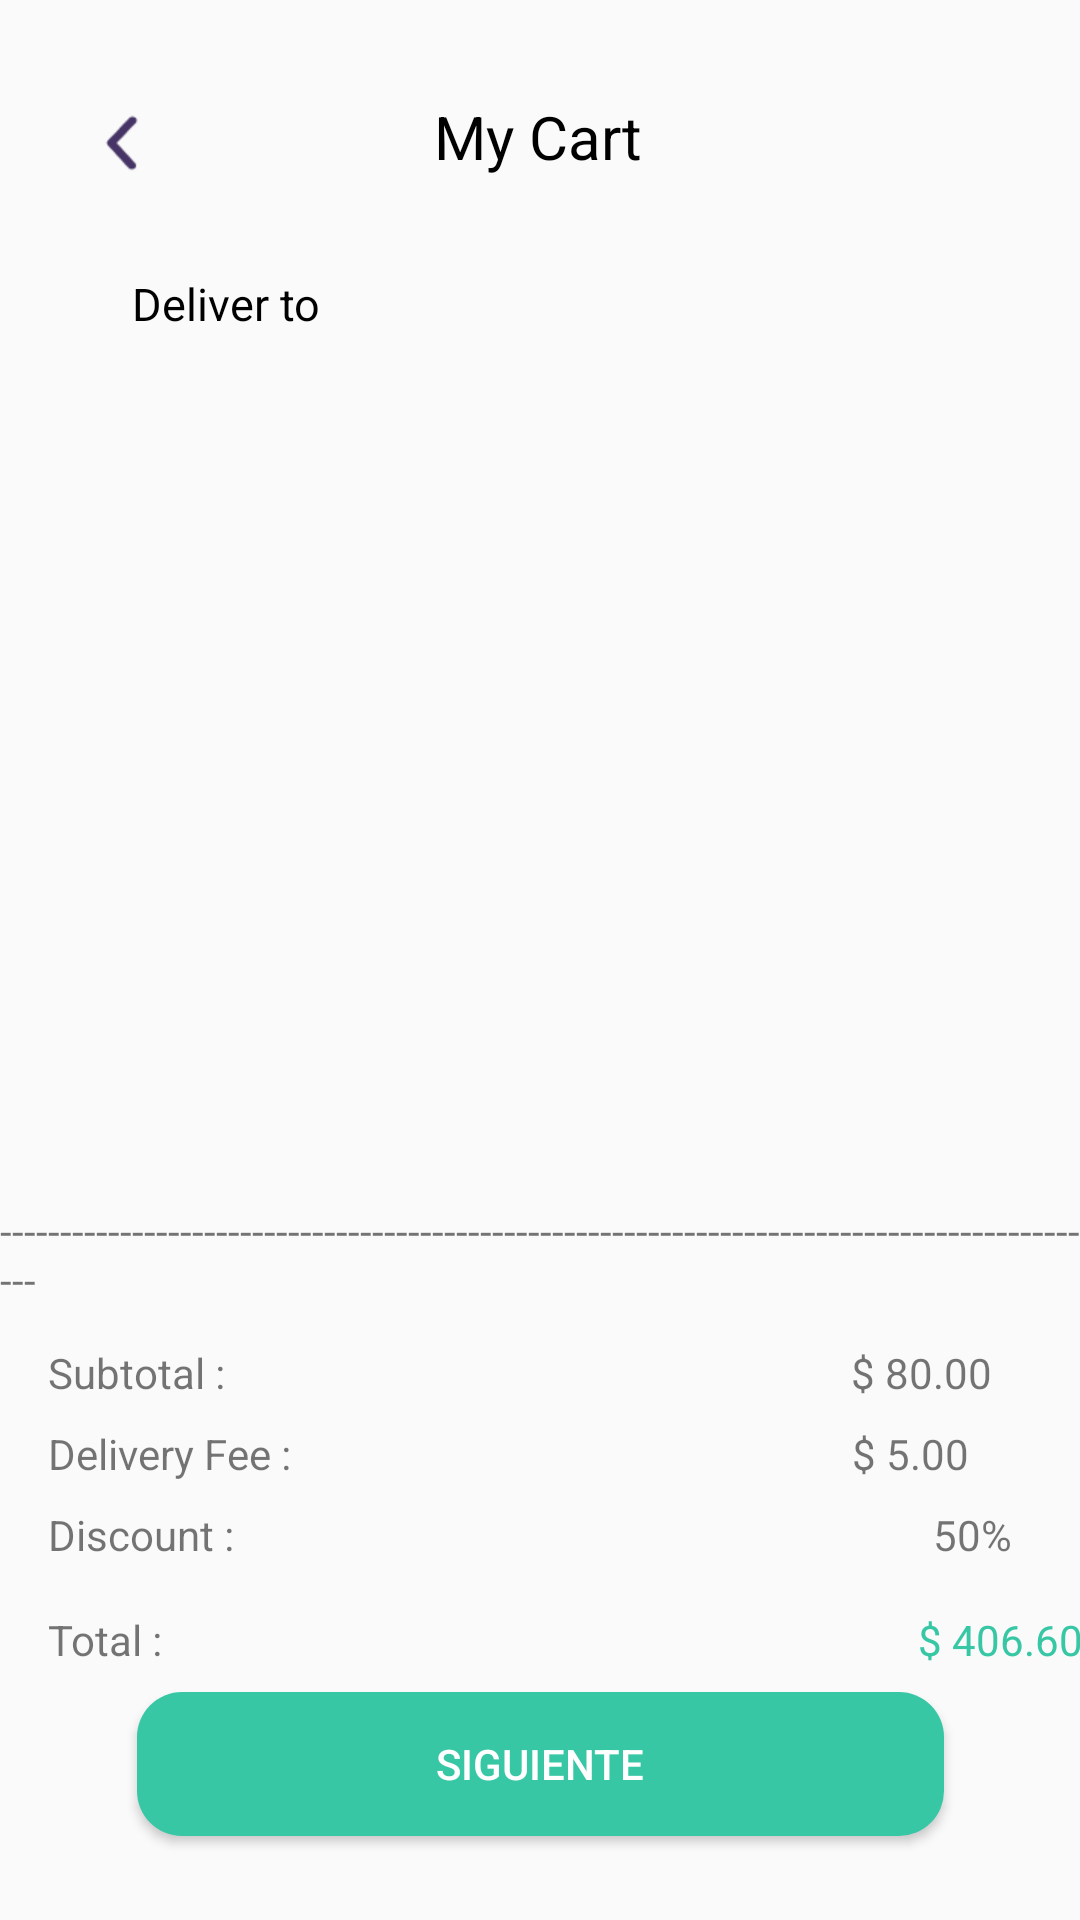

Screen size 1080w x 1920h. Icon name, then its box in pixels as (x1, y1, x2, y2):
arrow back: (106, 116, 138, 170)
